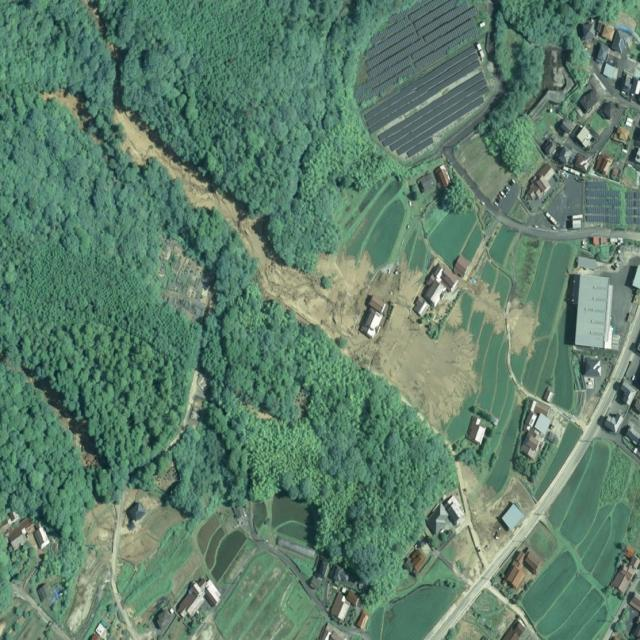landslide: (114, 110, 477, 430)
